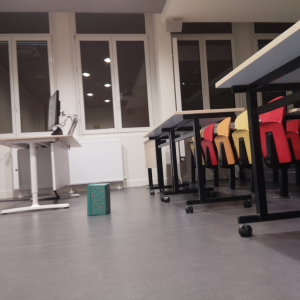small: (83, 180, 115, 220)
